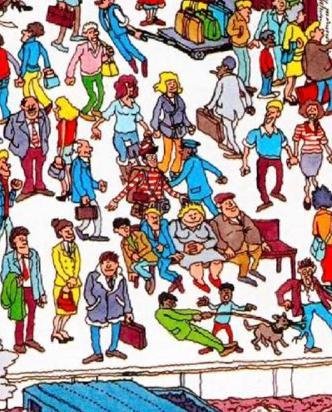waldorotation: (104, 140, 188, 217)
